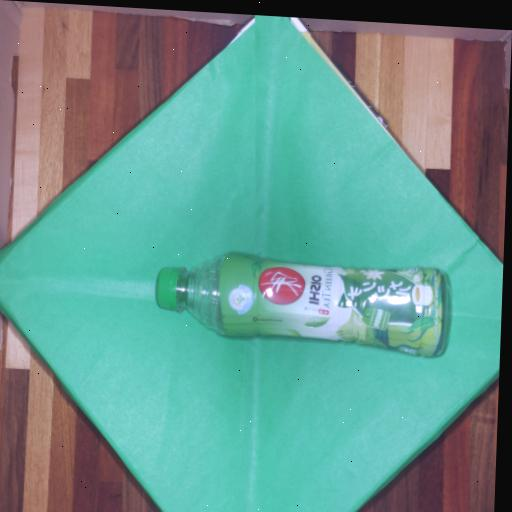bottle: (155, 253, 447, 356)
